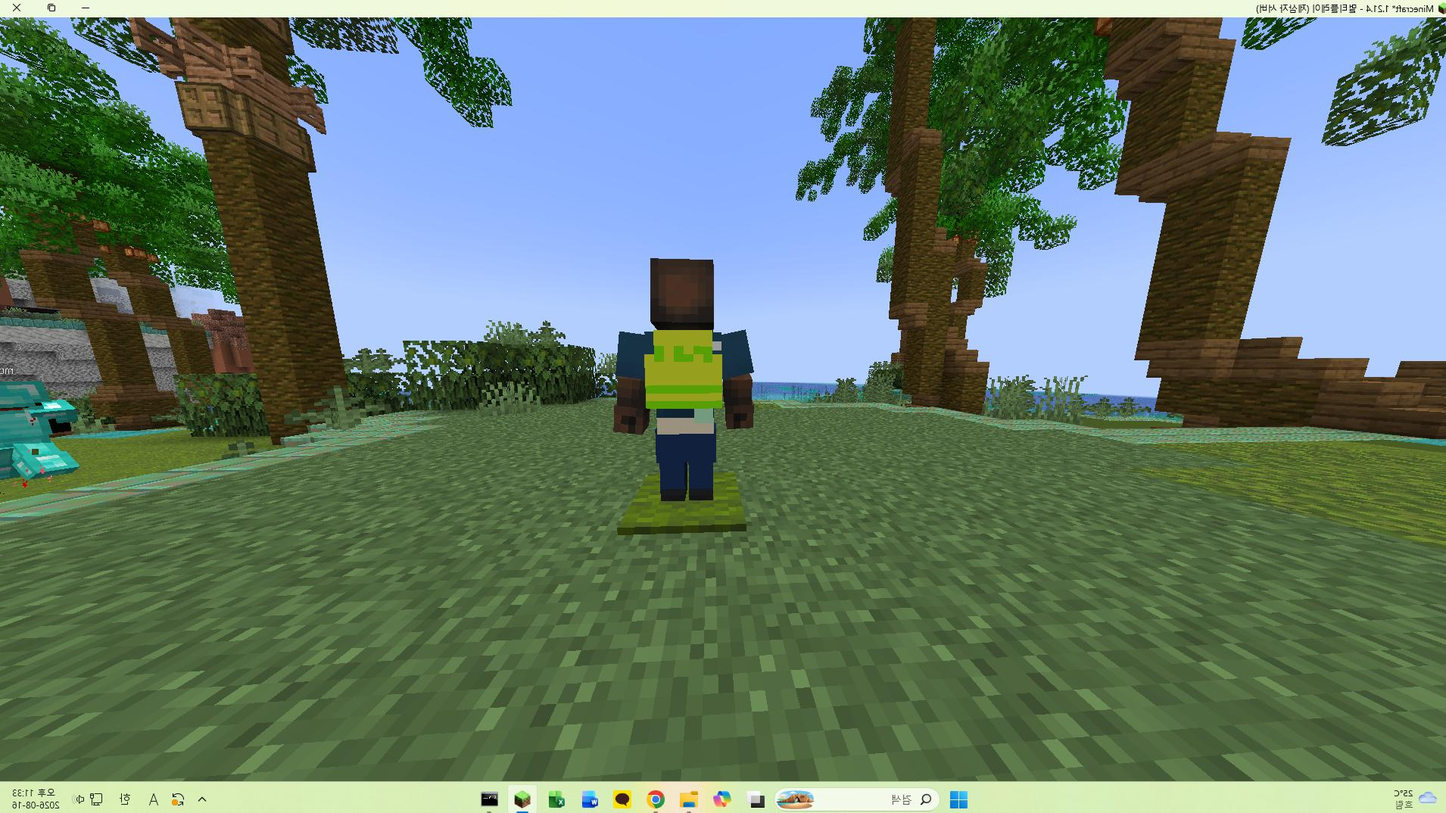Guardian: (614, 259, 753, 532)
